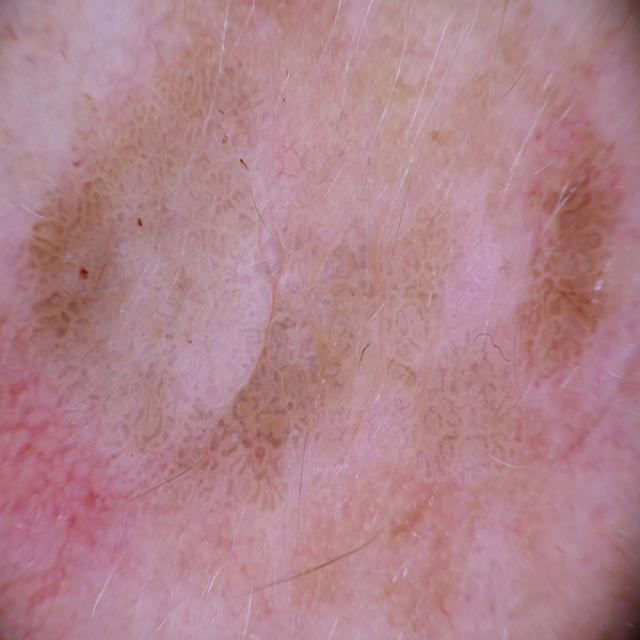Skin-Cancer Pigmented benign keratosis: (3, 8, 640, 640)
